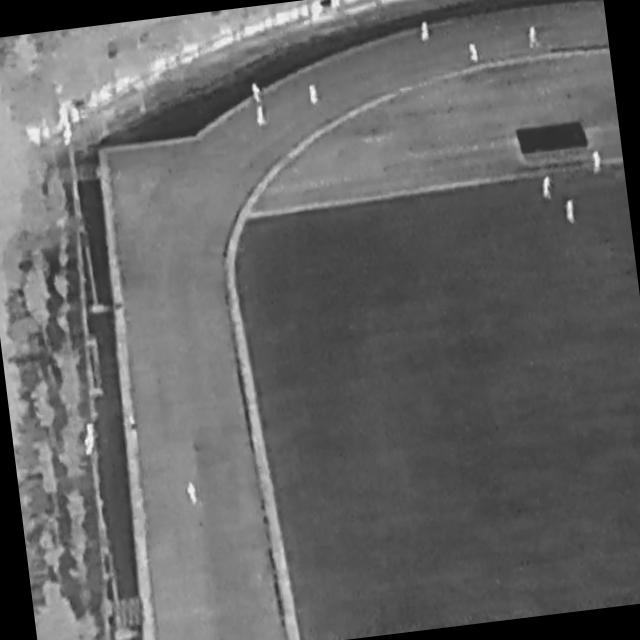person: (185, 480, 200, 506), (564, 199, 577, 226), (541, 174, 554, 200), (255, 104, 268, 129), (528, 25, 541, 50), (308, 82, 321, 106), (591, 148, 603, 174), (128, 414, 139, 440), (420, 20, 432, 42), (252, 82, 263, 104), (469, 42, 480, 64)
